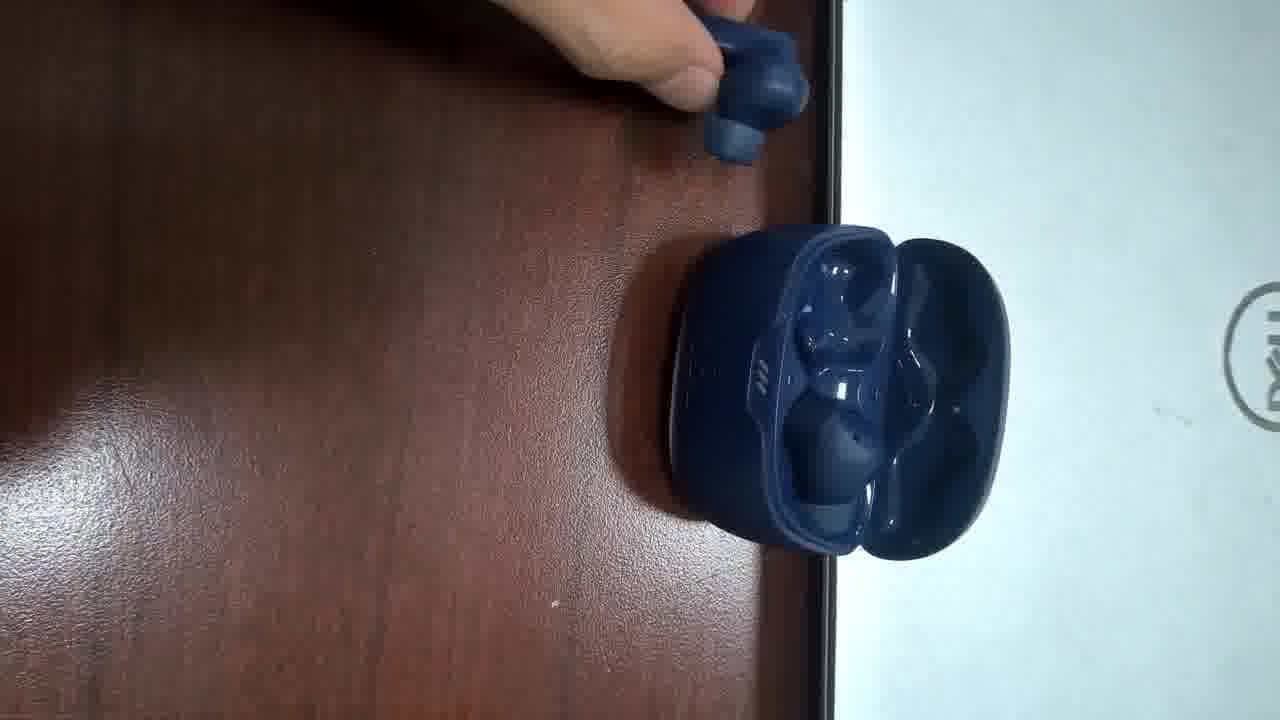Case: (669, 228, 1024, 568)
Earbud: (777, 376, 897, 548), (701, 14, 808, 164)
